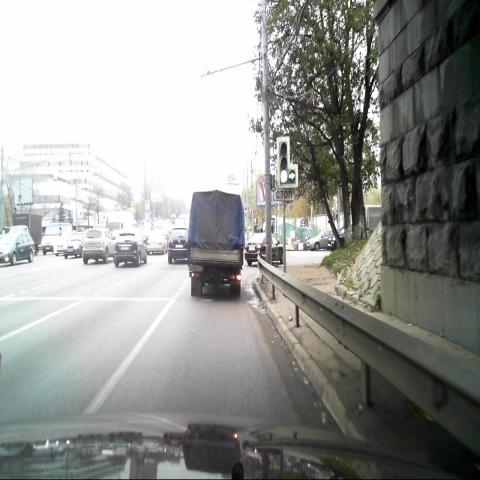6_16: (273, 189, 296, 202)
